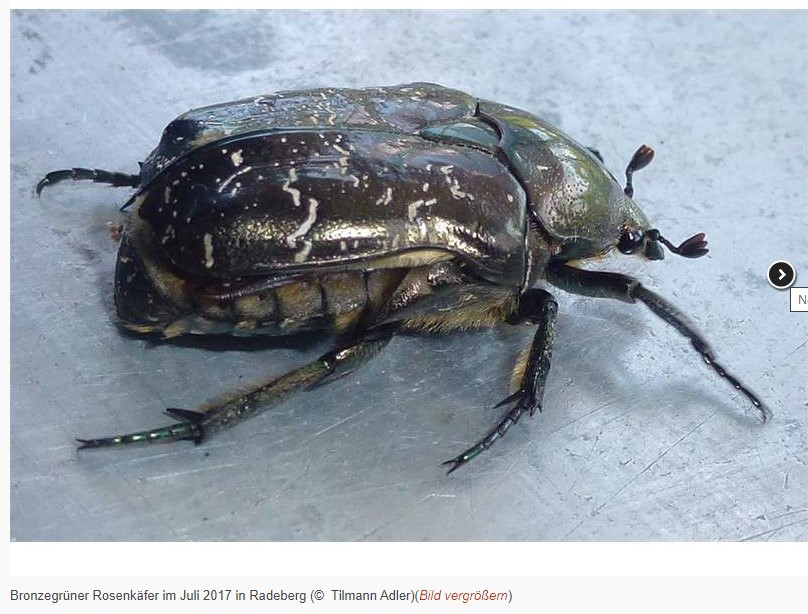Protaetia_lugubris: (26, 64, 764, 511)
